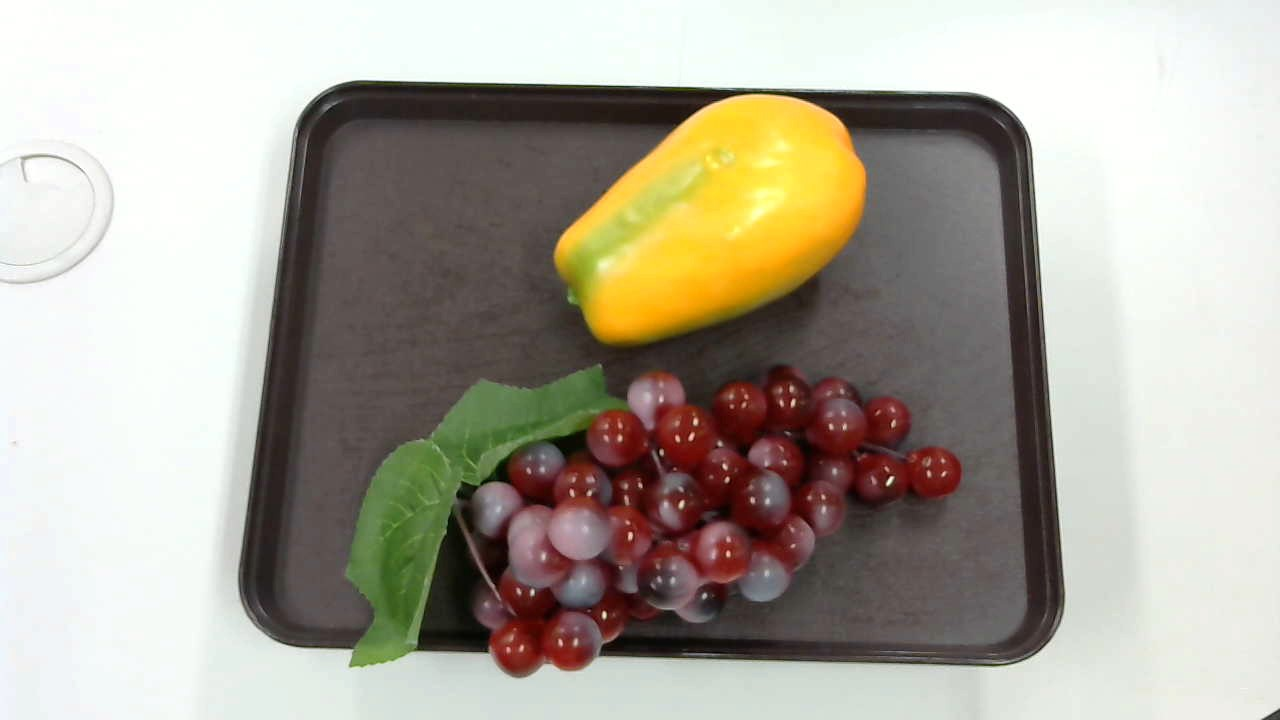grape: (340, 354, 969, 674)
papya: (547, 90, 868, 349)
